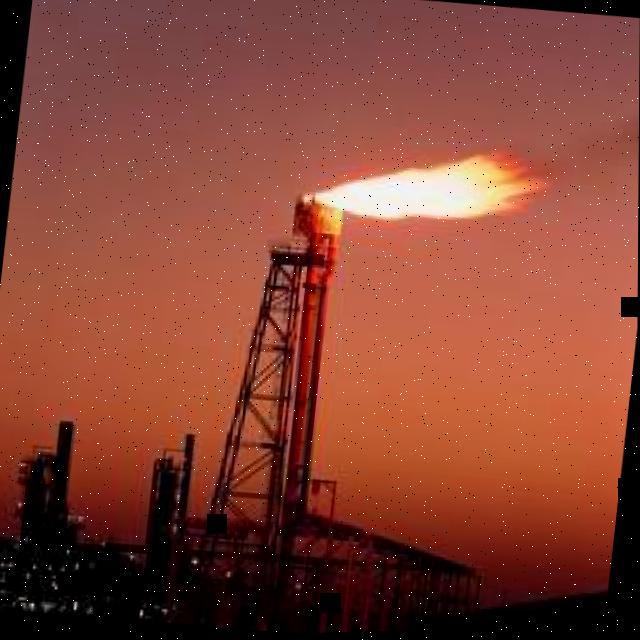fire: (301, 152, 549, 222)
